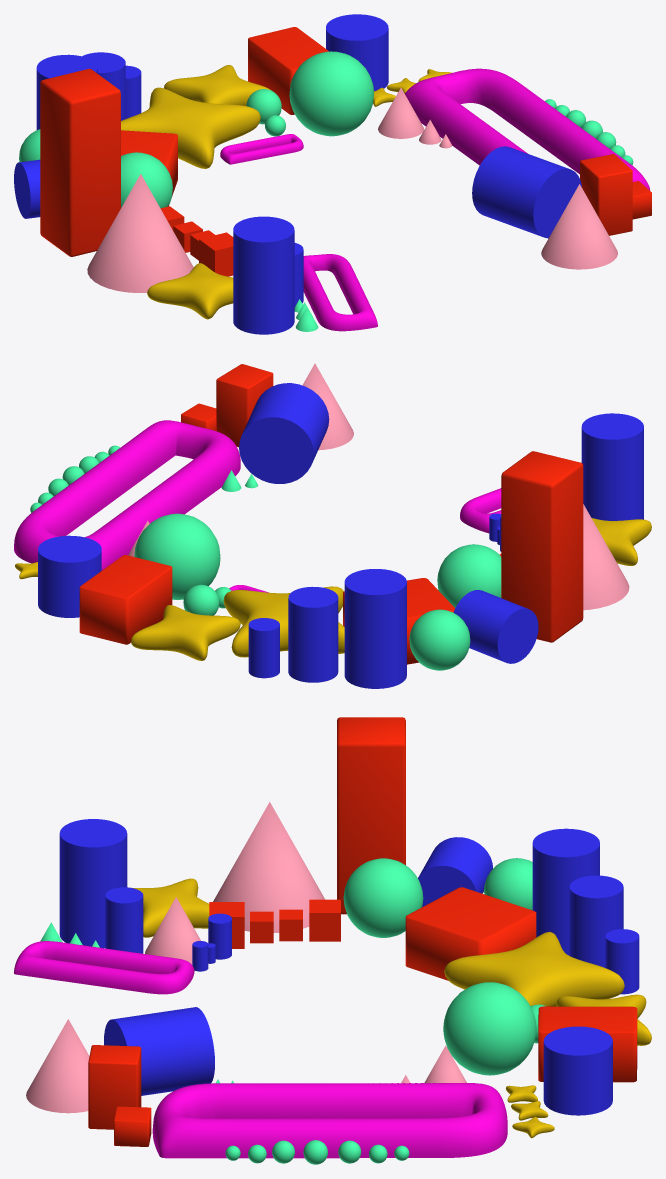
3 views of the same model, one above another, from view 1: azimuth 30°, elevation 25°; view 2: azimuth 150°, elevation 25°; view 3: azimuth 270°, elevation 25° (orthographic). The views are drawn at different scales.
Parts seen in each view (by area): view 1: Cube.002, Asset 2, Cylinder.013, Cone, Cylinder.011, Sphere.009, Plane.003, Cone.004, Cube.010, Asset 2.001, Cube.004, Cylinder.016 (+16 smaller); view 2: Asset 2, Cube.002, Cylinder.012, Cylinder.011, Cylinder.013, Cube.010, Cylinder.015, Sphere.009, Cylinder.010, Cylinder.016, Plane.004, Sphere.008 (+11 smaller); view 3: Asset 2, Cube.002, Cube.003, Cylinder.013, Plane.003, Sphere.009, Cone, Cylinder.011, Asset 2.001, Cylinder.016, Cylinder.012, Sphere (+18 smaller).
Boxes of the visible parts, box(x1,y1,x2,y2) form: Cube.002: box(40, 68, 120, 256); Asset 2: box(405, 68, 650, 190); Cylinder.013: box(233, 216, 294, 334); Cone: box(87, 174, 193, 292); Cylinder.011: box(472, 146, 581, 238); Sphere.009: box(289, 51, 373, 136); Plane.003: box(121, 87, 260, 168); Cone.004: box(541, 184, 617, 269); Cube.010: box(248, 27, 328, 114); Asset 2.001: box(303, 254, 377, 331); Cube.004: box(580, 154, 632, 235); Cylinder.016: box(326, 14, 388, 91); Asset 2: box(14, 420, 240, 570); Cube.002: box(501, 451, 583, 642); Cylinder.012: box(344, 569, 406, 688); Cylinder.011: box(239, 383, 329, 483); Cylinder.013: box(581, 413, 643, 520); Cube.010: box(79, 555, 172, 644); Cylinder.015: box(288, 586, 338, 682); Sphere.009: box(134, 513, 220, 599); Cylinder.010: box(453, 590, 538, 663); Cylinder.016: box(38, 535, 101, 617); Plane.004: box(131, 605, 240, 660); Sphere.008: box(409, 609, 470, 670); Asset 2: box(152, 1083, 507, 1158); Cube.002: box(337, 717, 405, 914); Cube.003: box(405, 887, 536, 980); Cylinder.013: box(59, 819, 127, 948); Plane.003: box(444, 932, 624, 1006); Sphere.009: box(443, 982, 536, 1075); Cone: box(213, 802, 324, 932); Cylinder.011: box(104, 1007, 214, 1095); Asset 2.001: box(14, 941, 194, 994); Cylinder.016: box(543, 1026, 612, 1115); Cylinder.012: box(532, 828, 599, 955); Sphere: box(343, 858, 423, 937).
Bounding box in the file's own units: 899 × 272 × 855.
